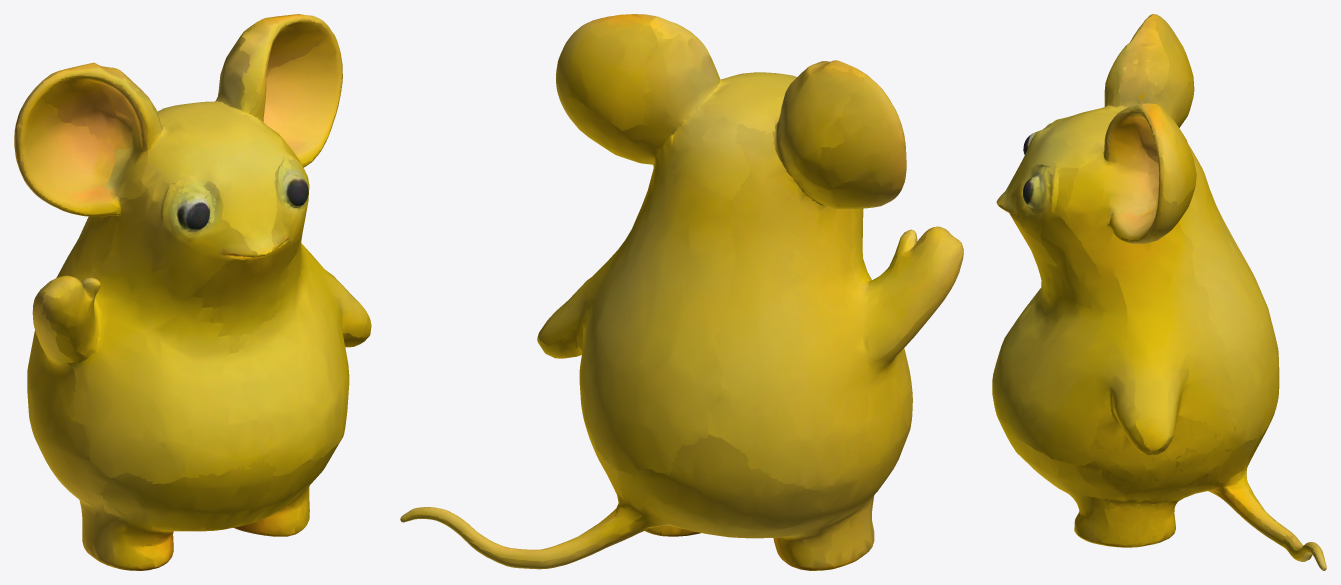
File: naiwa_nashu_runtime.glb
3 views of the same model, side by side, from view 1: azimuth 30°, elevation 25°; view 2: azimuth 150°, elevation 25°; view 3: azimuth 270°, elevation 25° (orthographic). The views are drawn at different scales.
Parts seen in each view (by area): view 1: geometry_0; view 2: geometry_0; view 3: geometry_0.
Part boxes in pixels (x1,y1,x2,y2): geometry_0: [14, 14, 371, 570]; geometry_0: [400, 14, 963, 570]; geometry_0: [992, 14, 1326, 570].
Size of the model in its own units: 0.0875 by 0.1 by 0.0692.
1 material, 1 textured.
